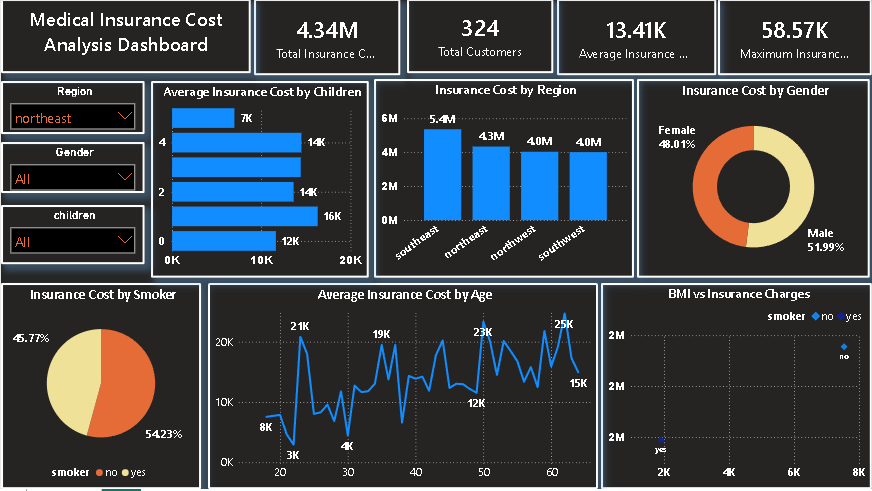

Layout of this report page (visuals, bound fields, positions):
{"tool":"powerbi","page":{"name":"Page 1","canvas":[1280,720],"ordinal":0},"visuals":[{"type":"cardVisual","fields":{"Data":["insurance.Total Insurance Cost"]},"box":[371.8,0,214.5,111.7],"z":0},{"type":"cardVisual","fields":{"Data":["insurance.Average Insurance Cost"]},"box":[817,0,233.6,111.7],"z":1},{"type":"cardVisual","fields":{"Data":["insurance.Total Customers"]},"box":[596.6,0,214.5,108.7],"z":2},{"type":"cardVisual","fields":{"Data":["insurance.Maximum Insurance Cost"]},"box":[1053.6,0,226.3,111.7],"z":3},{"type":"pieChart","title":"Insurance Cost by Smoker","fields":{"Category":["insurance.smoker"],"Y":["insurance.Total Insurance Cost"]},"box":[0,417.3,293.9,302.7],"z":4},{"type":"columnChart","title":"Insurance Cost by Region","fields":{"Category":["insurance.region"],"Y":["insurance.Total Insurance Cost"]},"box":[548.1,117.6,382,292.4],"z":5},{"type":"donutChart","title":"Insurance Cost by Gender","fields":{"Category":["insurance.Gender"],"Y":["insurance.Total Insurance Cost"]},"box":[934.5,117.6,342.4,292.4],"z":6},{"type":"scatterChart","title":"BMI vs Insurance Charges","fields":{"X":["Sum(insurance.bmi)"],"Series":["insurance.smoker"],"Y":["Sum(insurance.charges)"]},"box":[881.6,417.3,398.2,302.7],"z":7},{"type":"lineChart","title":"Average Insurance Cost by Age","fields":{"Category":["insurance.age"],"Y":["insurance.Average Insurance Cost"]},"box":[304.2,417.3,573.1,302.7],"z":8},{"type":"clusteredBarChart","title":"Average Insurance Cost by Children","fields":{"Category":["insurance.children"],"Y":["insurance.Average Insurance Cost"]},"box":[220.4,120.5,320.3,289.5],"z":9},{"type":"slicer","title":"Gender","fields":{"Values":["insurance.Gender"]},"box":[0,209.7,211.4,74.9],"z":10},{"type":"slicer","title":"Region","fields":{"Values":["insurance.region"]},"box":[0,119.8,211.4,78.2],"z":11},{"type":"textbox","box":[0,0,367.3,108.7],"z":12},{"type":"slicer","title":"children","fields":{"Values":["insurance.children"]},"box":[0,302.9,211.4,86.6],"z":13}]}

Visuals, with their boxes in screenshot pixels (x1, y1, x2, y2), scaled from the page's 1280x720 canvas onto the 872x491 screenshot:
cardVisual - insurance.Total Insurance Cost: 253/0/399/76
cardVisual - insurance.Average Insurance Cost: 557/0/716/76
cardVisual - insurance.Total Customers: 406/0/553/74
cardVisual - insurance.Maximum Insurance Cost: 718/0/871/76
"Insurance Cost by Smoker" pieChart: 0/285/200/490
"Insurance Cost by Region" columnChart: 373/80/634/280
"Insurance Cost by Gender" donutChart: 637/80/870/280
"BMI vs Insurance Charges" scatterChart: 601/285/871/490
"Average Insurance Cost by Age" lineChart: 207/285/598/490
"Average Insurance Cost by Children" clusteredBarChart: 150/82/368/280
"Gender" slicer: 0/143/144/194
"Region" slicer: 0/82/144/135
textbox: 0/0/250/74
"children" slicer: 0/207/144/266
